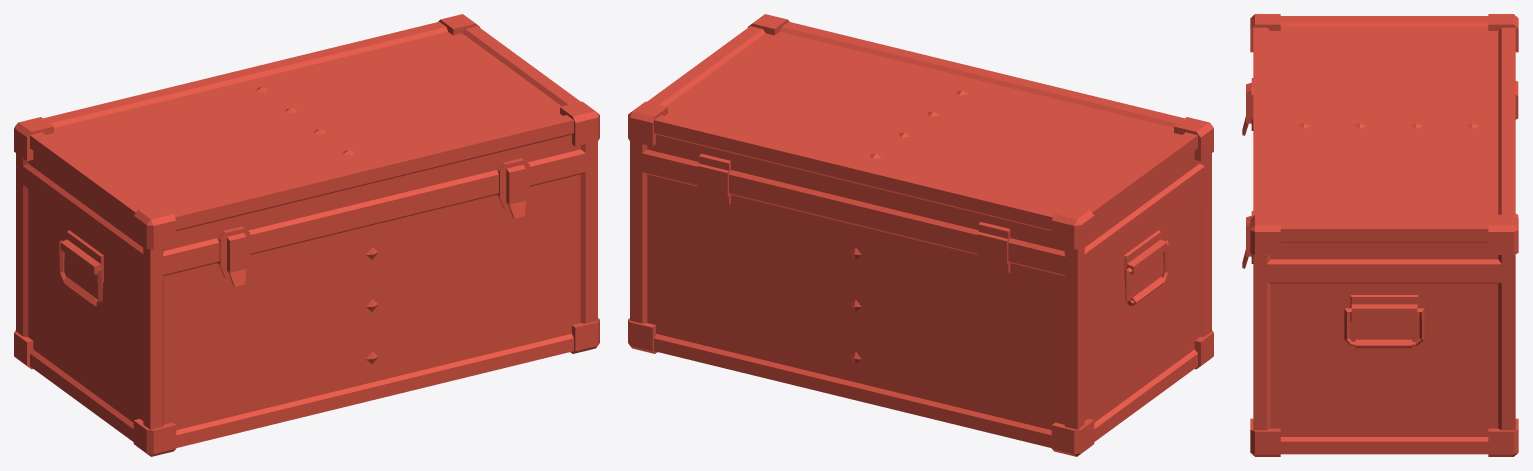
File: SM_Box_Equipment_Padded_Big_Solid.fbx
3 views of the same model, side by side, from view 1: azimuth 30°, elevation 25°; view 2: azimuth 150°, elevation 25°; view 3: azimuth 270°, elevation 25° (orthographic). The views are drawn at different scales.
Visible parts, largest first — view 1: SM_Box_Equipment_Padded_Big_Solid; view 2: SM_Box_Equipment_Padded_Big_Solid; view 3: SM_Box_Equipment_Padded_Big_Solid.
Boxes of the visible parts, x1,y1,x2,y2 form: SM_Box_Equipment_Padded_Big_Solid: (14,14,599,456); SM_Box_Equipment_Padded_Big_Solid: (628,14,1213,456); SM_Box_Equipment_Padded_Big_Solid: (1242,14,1518,456).
Size of the model in its own units: 40.03 by 74.93 by 37.
